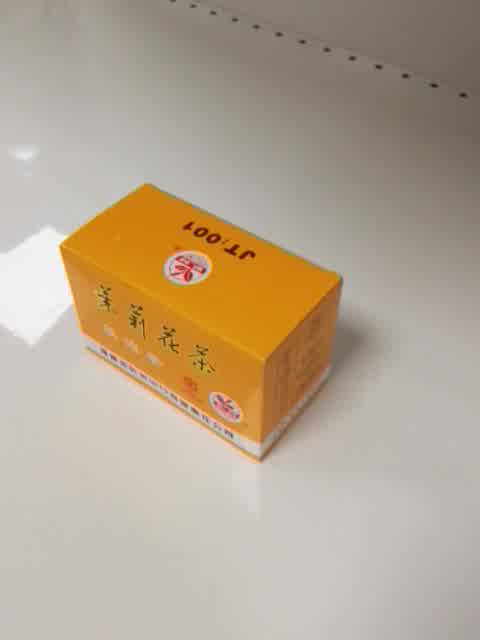jasminetea: (58, 183, 344, 461)
